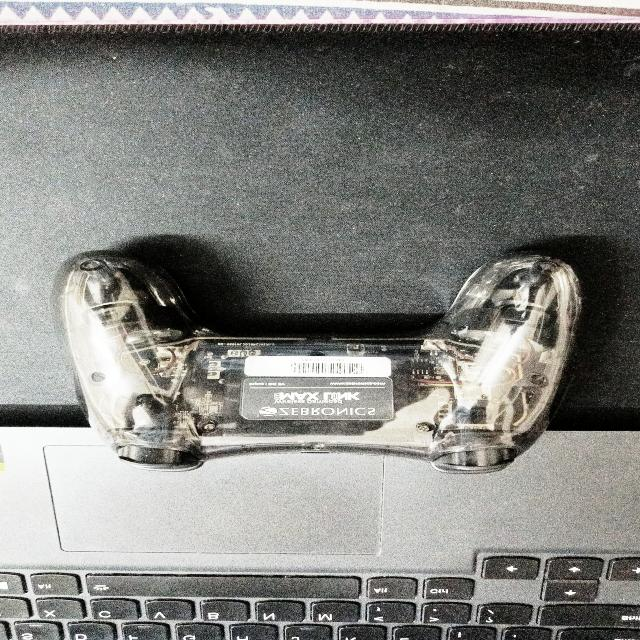gamepad: (60, 250, 582, 476)
